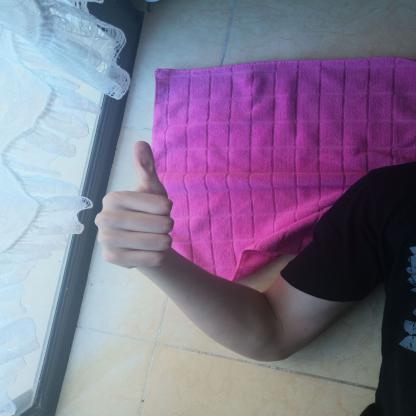ALIF: (79, 135, 190, 279)
